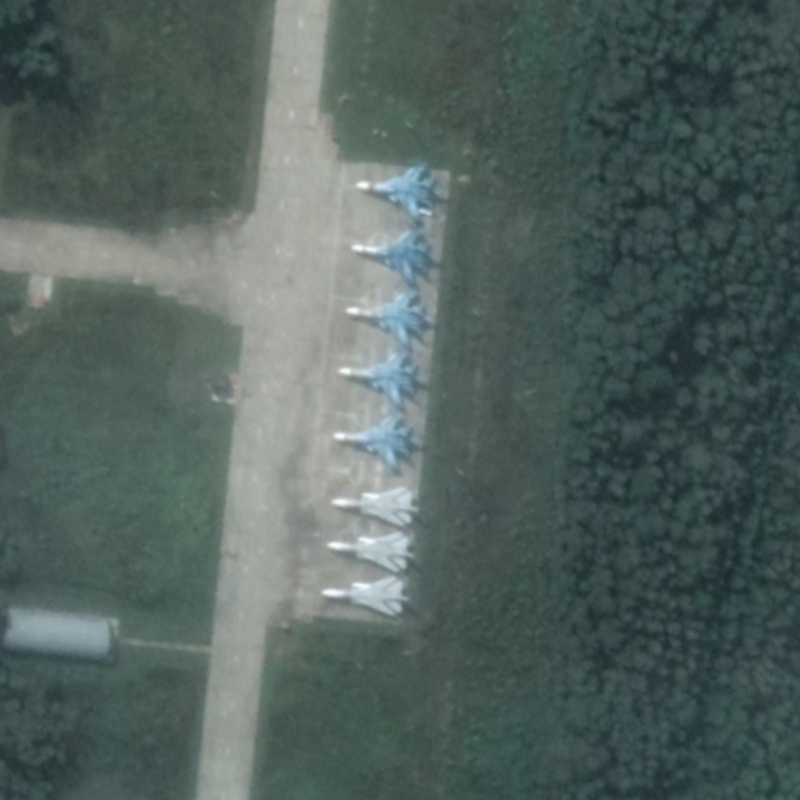A19: (349, 225, 441, 286), (330, 411, 423, 471), (344, 288, 435, 349), (353, 162, 442, 223), (335, 350, 425, 408)
A20: (329, 484, 420, 529), (325, 530, 414, 576), (320, 575, 412, 618)
